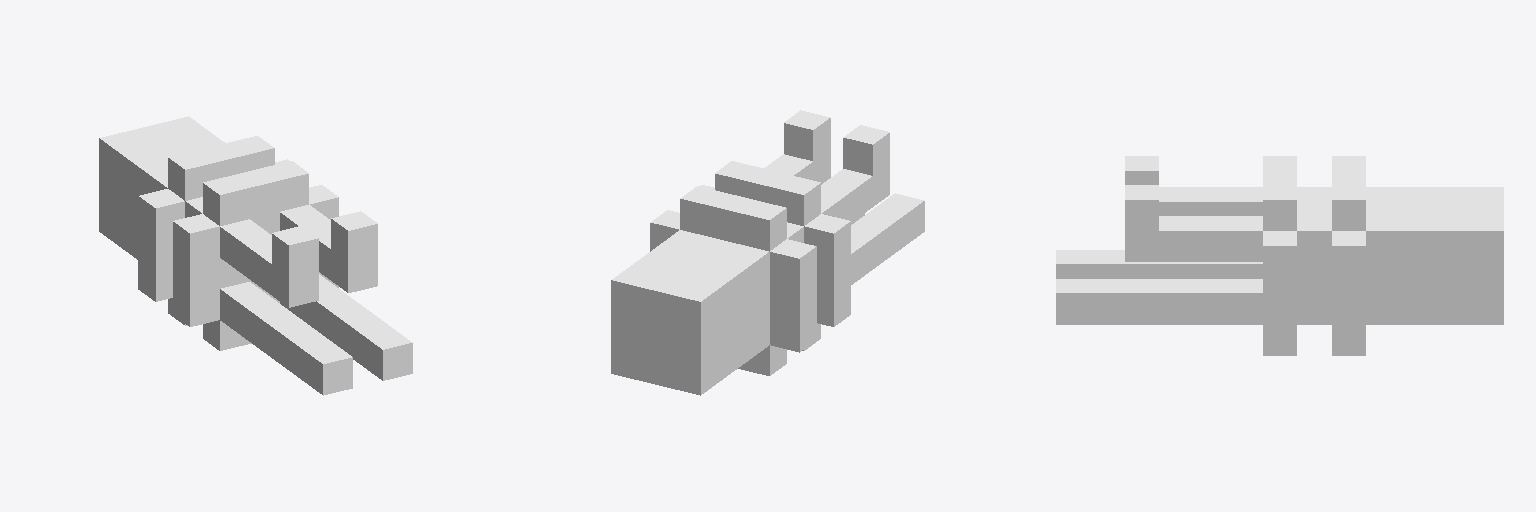
Rendered from Extra-17-DualStriker_Canon_L.obj.
3 views of the same model, side by side, from view 1: azimuth 30°, elevation 25°; view 2: azimuth 150°, elevation 25°; view 3: azimuth 270°, elevation 25° (orthographic).
Parts seen in each view (by area): view 1: DualStriker_Canon_L; view 2: DualStriker_Canon_L; view 3: DualStriker_Canon_L.
Boxes of the visible parts, x1,y1,x2,y2 form: DualStriker_Canon_L: [99, 116, 412, 395]; DualStriker_Canon_L: [611, 110, 924, 395]; DualStriker_Canon_L: [1056, 156, 1503, 355].
Bounding box in the file's own units: 0.5 × 0.5 × 1.3.